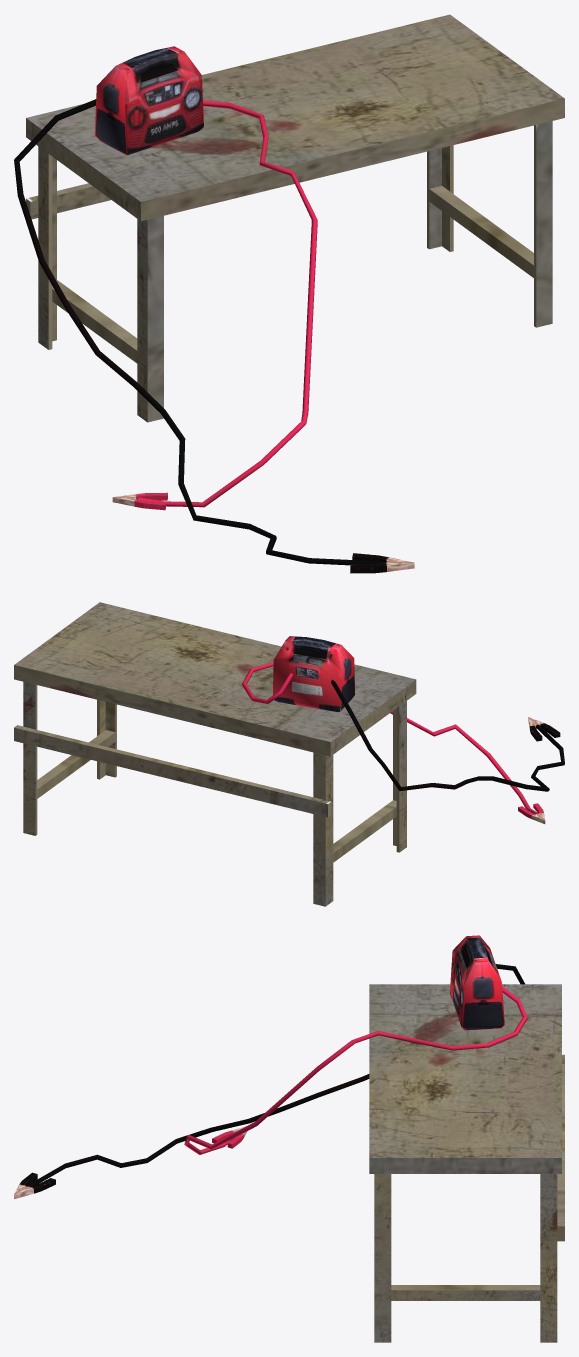
Rendered from torture_table.FBX.
3 views of the same model, one above another, from view 1: azimuth 30°, elevation 25°; view 2: azimuth 150°, elevation 25°; view 3: azimuth 270°, elevation 25° (orthographic). The views are drawn at different scales.
Visible parts, largest first — view 1: torture_table, jumper_cables; view 2: torture_table, jumper_cables; view 3: torture_table, jumper_cables.
Boxes of the visible parts, x1,y1,x2,y2 form: torture_table: [26, 14, 564, 422]; jumper_cables: [14, 46, 414, 573]; torture_table: [14, 602, 416, 906]; jumper_cables: [242, 636, 564, 823]; torture_table: [369, 984, 564, 1342]; jumper_cables: [14, 935, 527, 1199].
Bounding box in the file's own units: 194 × 109 × 211.
